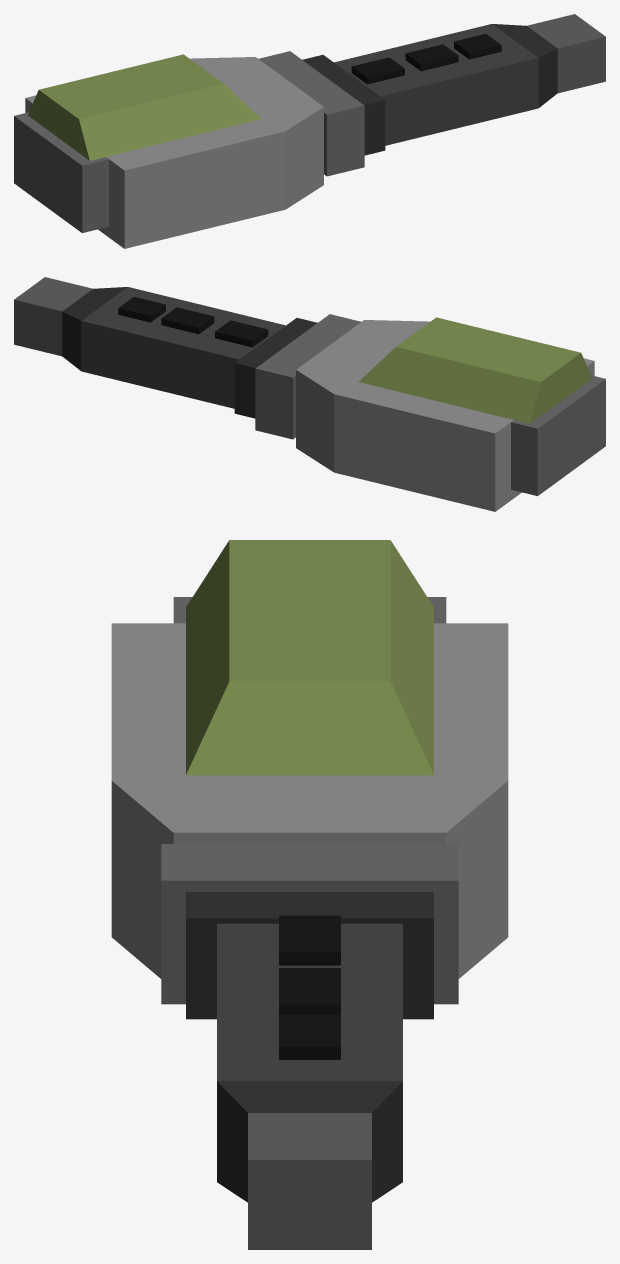
File: ce_blaster_gun.obj
The picture shows the model from 3 angles, top to bottom: view 1: azimuth 30°, elevation 25°; view 2: azimuth 150°, elevation 25°; view 3: azimuth 270°, elevation 25°; orthographic projection. The views are drawn at different scales.
Parts seen in each view (by area): view 1: ce_blaster_gun_shell, ce_blaster_gun_cell, ce_blaster_gun_housing, ce_blaster_gun_rear, ce_blaster_gun_neck1, ce_blaster_gun_tip, ce_blaster_gun_neck2, ce_blaster_gun_taper, ce_blaster_gun_vent1, ce_blaster_gun_vent0, ce_blaster_gun_vent2; view 2: ce_blaster_gun_shell, ce_blaster_gun_cell, ce_blaster_gun_housing, ce_blaster_gun_rear, ce_blaster_gun_neck1, ce_blaster_gun_tip, ce_blaster_gun_neck2, ce_blaster_gun_taper, ce_blaster_gun_vent1, ce_blaster_gun_vent0, ce_blaster_gun_vent2; view 3: ce_blaster_gun_shell, ce_blaster_gun_cell, ce_blaster_gun_housing, ce_blaster_gun_neck1, ce_blaster_gun_tip, ce_blaster_gun_neck2, ce_blaster_gun_taper, ce_blaster_gun_vent0, ce_blaster_gun_vent1, ce_blaster_gun_vent2.
Part boxes in pixels (box(x1,y1,x2,y2)): ce_blaster_gun_shell: box(25, 57, 323, 248); ce_blaster_gun_cell: box(28, 54, 261, 160); ce_blaster_gun_housing: box(334, 24, 538, 145); ce_blaster_gun_rear: box(14, 112, 108, 233); ce_blaster_gun_neck1: box(258, 51, 364, 176); ce_blaster_gun_tip: box(527, 14, 605, 93); ce_blaster_gun_neck2: box(302, 55, 385, 155); ce_blaster_gun_taper: box(492, 24, 557, 107); ce_blaster_gun_vent1: box(405, 44, 458, 71); ce_blaster_gun_vent0: box(351, 57, 404, 84); ce_blaster_gun_vent2: box(454, 34, 501, 59); ce_blaster_gun_shell: box(296, 320, 594, 511); ce_blaster_gun_cell: box(358, 317, 591, 423); ce_blaster_gun_housing: box(81, 287, 285, 408); ce_blaster_gun_rear: box(511, 375, 605, 496); ce_blaster_gun_neck1: box(255, 314, 361, 439); ce_blaster_gun_tip: box(14, 277, 92, 356); ce_blaster_gun_neck2: box(234, 318, 317, 418); ce_blaster_gun_taper: box(62, 287, 127, 370); ce_blaster_gun_vent1: box(161, 307, 214, 334); ce_blaster_gun_vent0: box(215, 320, 268, 347); ce_blaster_gun_vent2: box(118, 297, 165, 322); ce_blaster_gun_shell: box(111, 623, 508, 978); ce_blaster_gun_cell: box(186, 540, 433, 775); ce_blaster_gun_housing: box(217, 923, 402, 1080); ce_blaster_gun_neck1: box(161, 844, 458, 1004); ce_blaster_gun_tip: box(248, 1113, 371, 1249); ce_blaster_gun_neck2: box(186, 892, 433, 1019); ce_blaster_gun_taper: box(217, 1081, 402, 1202); ce_blaster_gun_vent0: box(279, 915, 340, 965); ce_blaster_gun_vent1: box(279, 968, 340, 1014); ce_blaster_gun_vent2: box(279, 1015, 340, 1059).
Bounding box in the file's own units: 1.01 × 0.1995 × 0.32.
